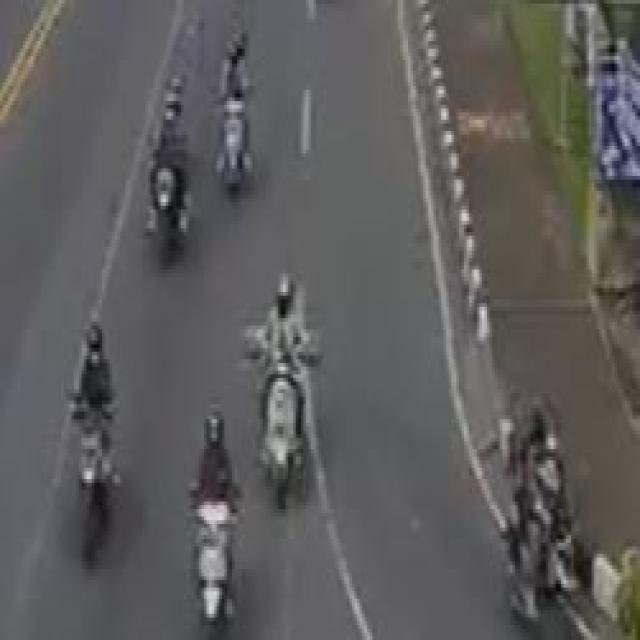motorbike: (62, 299, 136, 599), (241, 270, 322, 520), (186, 398, 244, 640), (131, 68, 200, 271), (223, 46, 264, 221)
